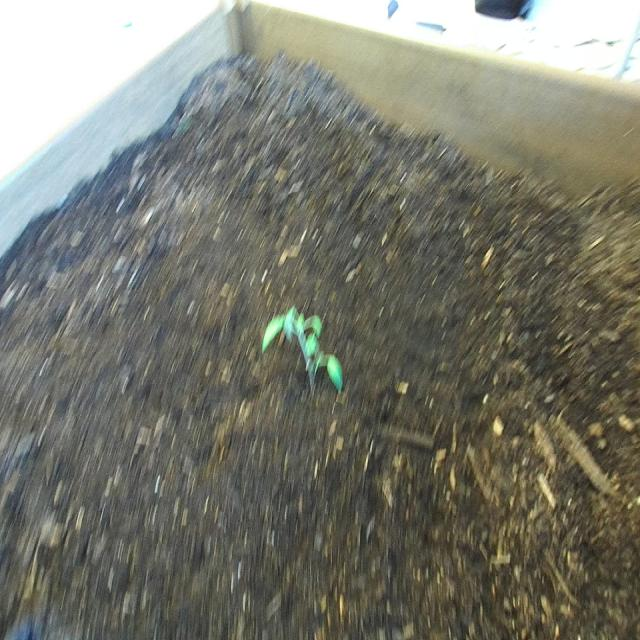Healthy: (260, 305, 347, 398)
